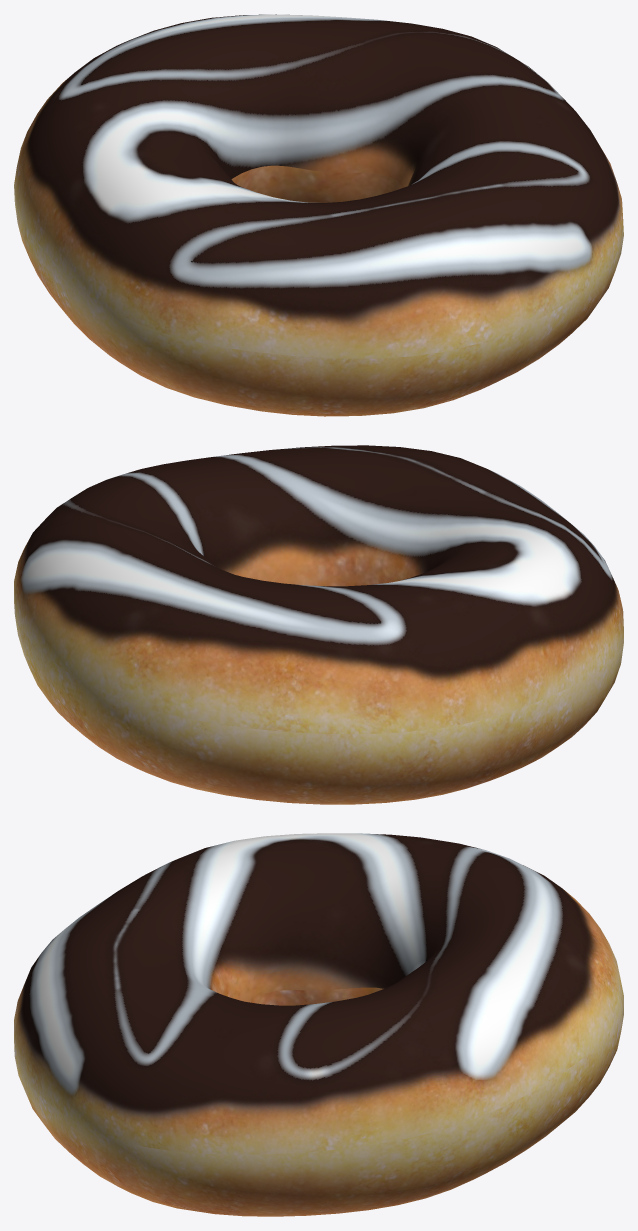
The model's file is Donut3.obj.
3 views of the same model, one above another, from view 1: azimuth 30°, elevation 25°; view 2: azimuth 150°, elevation 25°; view 3: azimuth 270°, elevation 25° (orthographic).
Parts seen in each view (by area): view 1: donut075; view 2: donut075; view 3: donut075.
Part boxes in pixels (x1=…): donut075: x1=14, y1=14, x2=623, y2=416; donut075: x1=14, y1=445, x2=623, y2=804; donut075: x1=14, y1=833, x2=623, y2=1216.
Bounding box in the file's own units: 9.35 × 3.88 × 9.66.
Materials: 1 (1 with a texture image).
